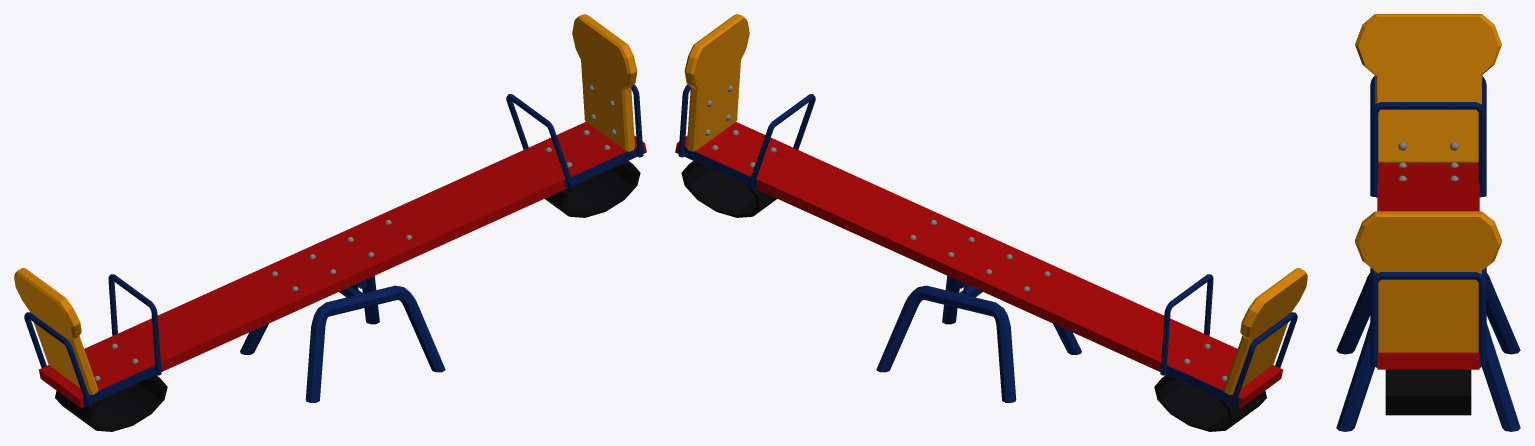
Rendered from seasaw.obj.
The picture shows the model from 3 angles, left to right: view 1: azimuth 30°, elevation 25°; view 2: azimuth 150°, elevation 25°; view 3: azimuth 270°, elevation 25°; orthographic projection. The views are drawn at different scales.
Size of the model in its own units: 8.4 by 3.64 by 1.8.
